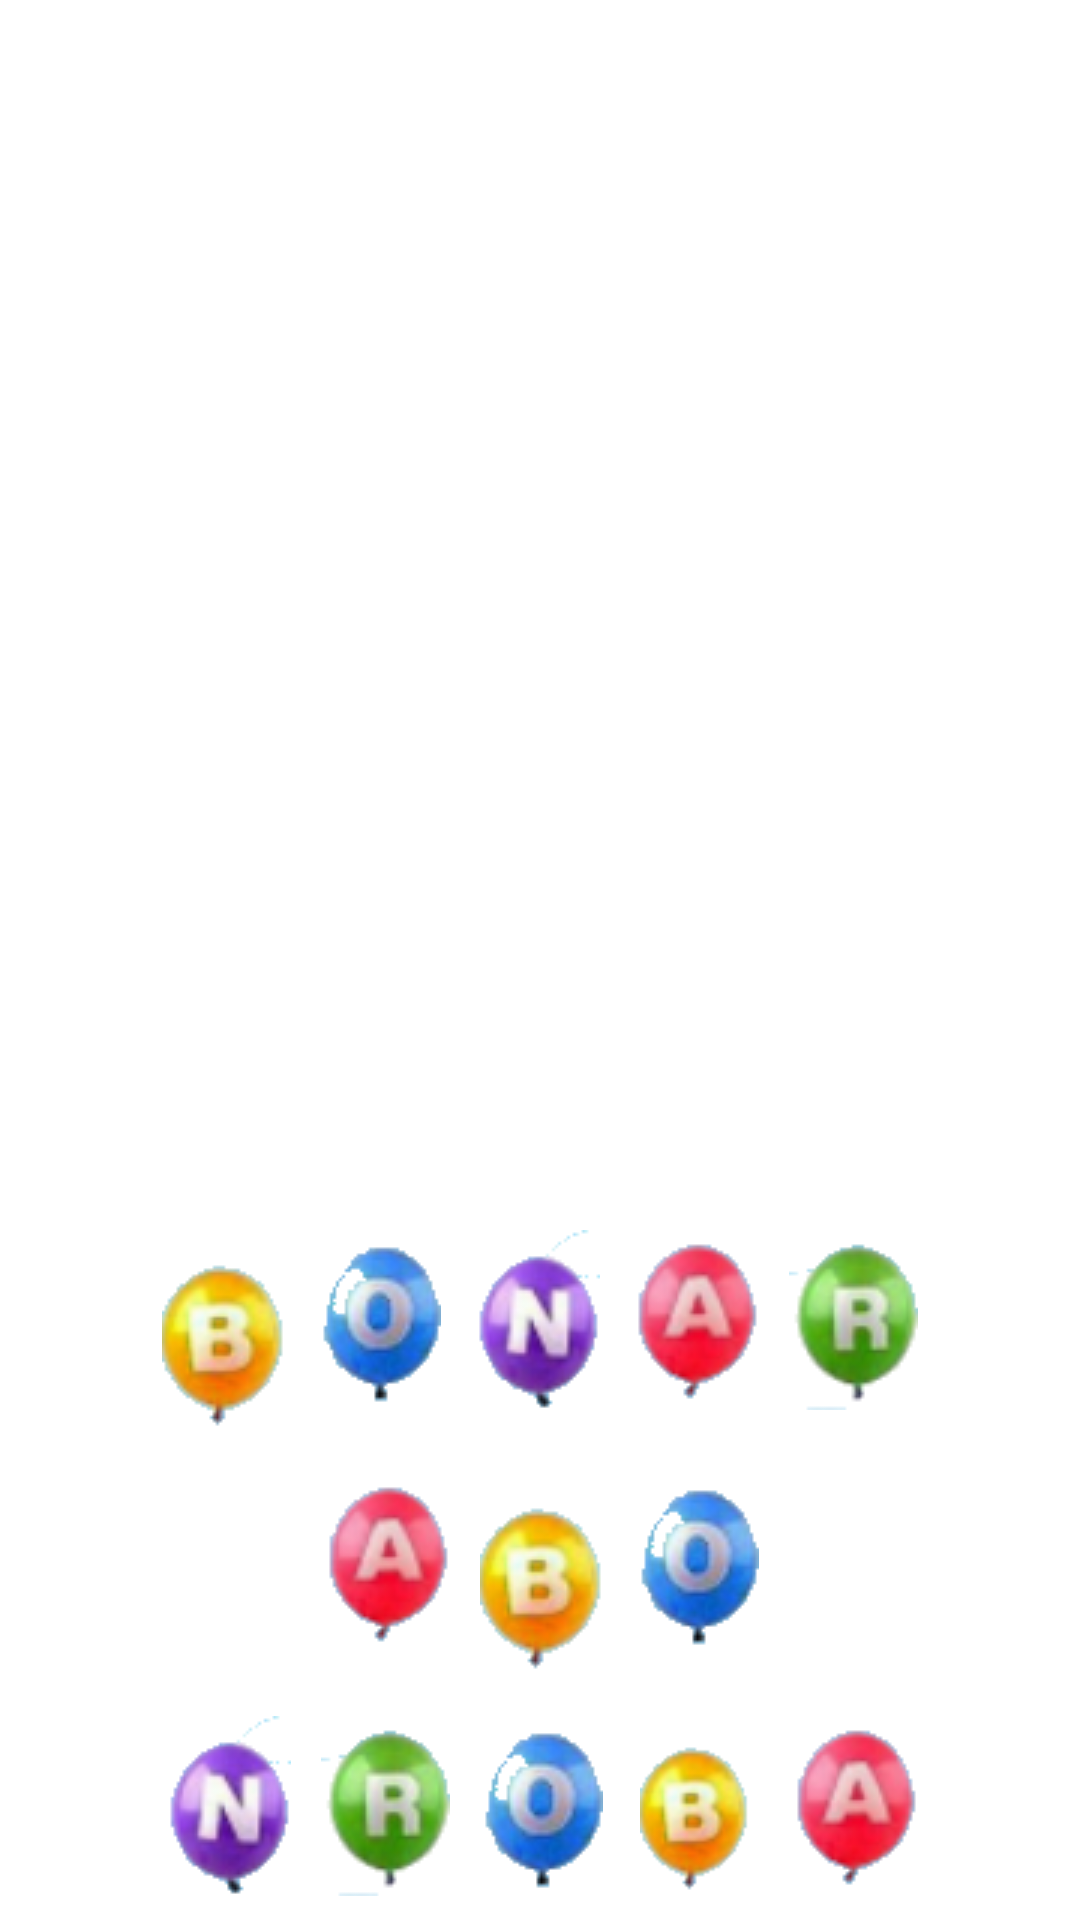

Icon bounding boxes for this 1080w x 1920h phone screenshot, format (x1, y1, x2, y2):
tblue: (323, 1247, 441, 1402), (641, 1490, 759, 1645), (485, 1733, 603, 1888)
tgreen: (789, 1244, 918, 1410), (321, 1730, 450, 1896)
tred: (638, 1244, 757, 1399), (329, 1487, 448, 1642), (797, 1730, 916, 1885)
tviolet: (479, 1230, 600, 1408), (170, 1716, 291, 1894)
tyello: (162, 1265, 283, 1426), (480, 1508, 601, 1669), (640, 1747, 747, 1890)
